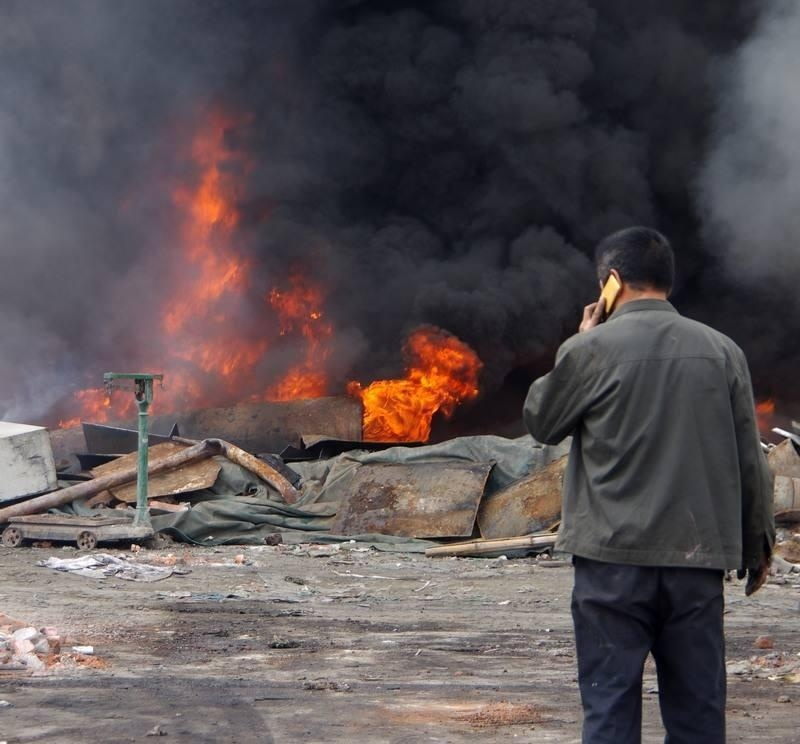fire: (91, 118, 335, 421), (354, 326, 481, 441)
